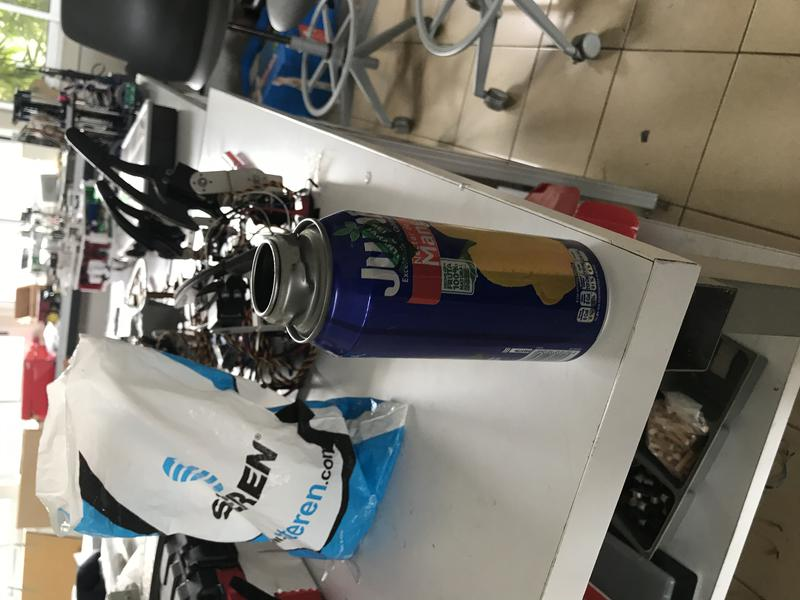jumex_botella: (250, 209, 612, 364)
